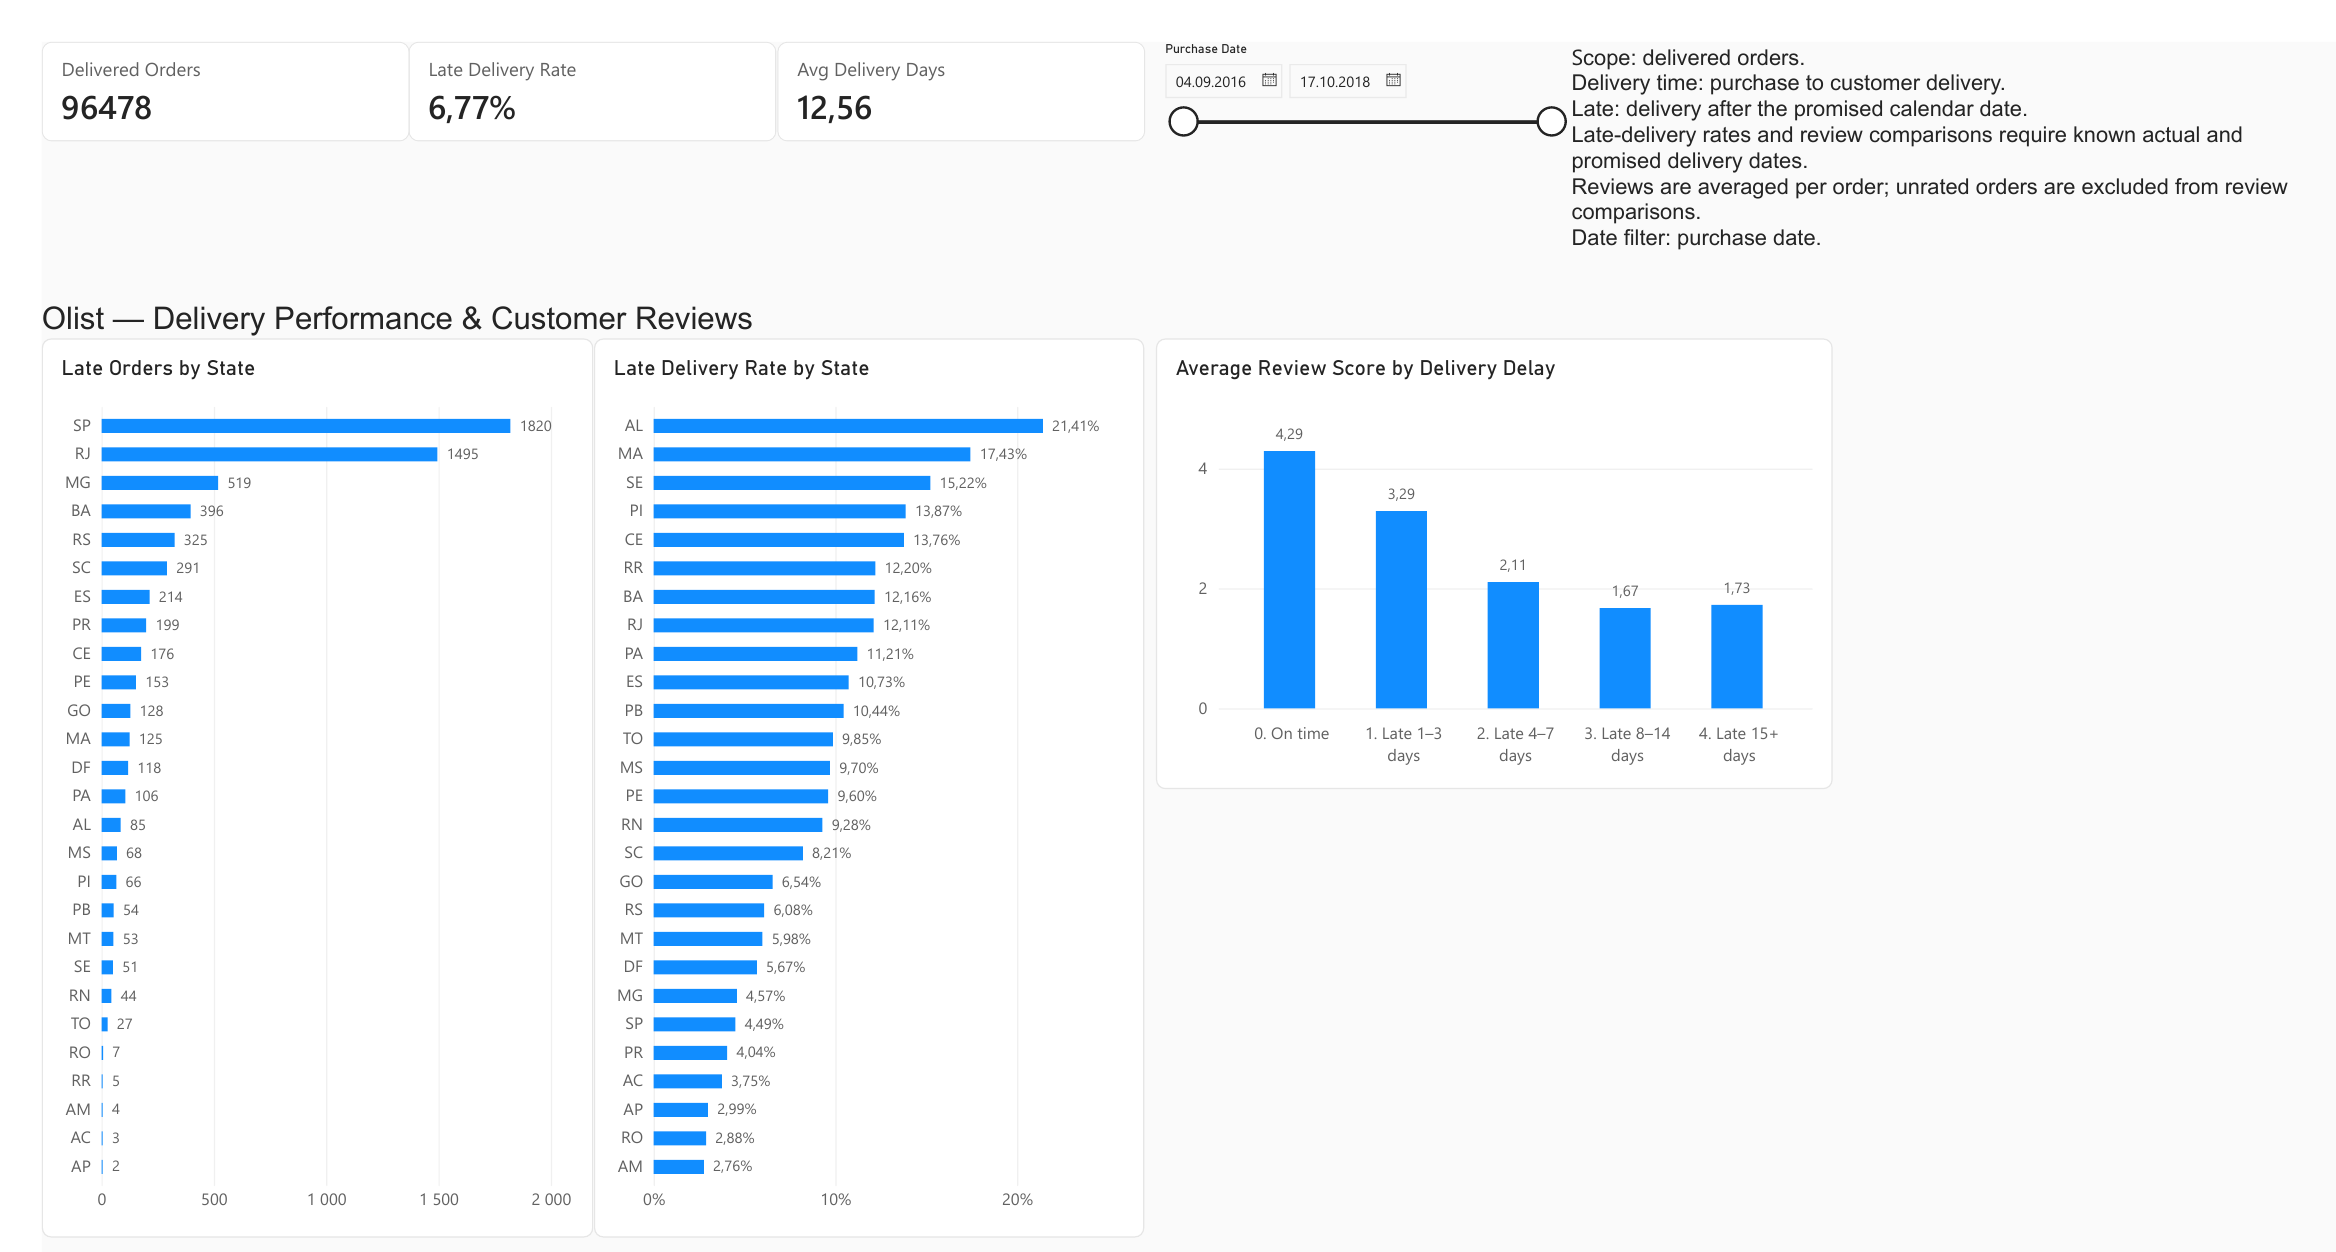

The page's visual inventory and layout, read from the dashboard file:
{"tool":"powerbi","page":{"name":"Страница 1","canvas":[1920,1080],"ordinal":0},"visuals":[{"type":"cardVisual","fields":{"Data":["public orders_enriched.Delivered Orders"]},"box":[0,0,314.3,85.7],"z":0},{"type":"cardVisual","fields":{"Data":["public orders_enriched.Late Delivery Rate"]},"box":[314,0,314.3,85.7],"z":2},{"type":"cardVisual","fields":{"Data":["public orders_enriched.Avg Delivery Days"]},"box":[628,0,314.3,85.7],"z":3},{"type":"clusteredBarChart","title":"Late Delivery Rate by State","fields":{"Category":["public orders_enriched.customer_state"],"Y":["public orders_enriched.Late Delivery Rate"]},"box":[472,254,470,767.5],"z":4},{"type":"clusteredBarChart","title":"Late Orders by State","fields":{"Category":["public orders_enriched.customer_state"],"Y":["public orders_enriched.Late Orders"]},"box":[0,254,471.2,767.5],"z":5},{"type":"clusteredColumnChart","title":"Average Review Score by Delivery Delay","fields":{"Category":["public orders_enriched.Delay Group"],"Y":["public orders_enriched.Avg Review Score"]},"box":[952,254,577.5,385],"z":6},{"type":"slicer","fields":{"Values":["public orders_enriched.order_purchase_timestamp"]},"box":[951.2,0,354,86],"z":7},{"type":"textbox","box":[1306,0,614,254],"z":8},{"type":"textbox","box":[0,221.7,671.7,31.7],"z":9}]}

Visuals, with their boxes on the page's 1920x1080 design canvas (x1, y1, x2, y2). These are canvas units, not pixel positions in the 2336x1252 screenshot, which may show the page scaled, cropped or inside an application window:
cardVisual - public orders_enriched.Delivered Orders: bbox=[0, 0, 314, 86]
cardVisual - public orders_enriched.Late Delivery Rate: bbox=[314, 0, 628, 86]
cardVisual - public orders_enriched.Avg Delivery Days: bbox=[628, 0, 942, 86]
"Late Delivery Rate by State" clusteredBarChart: bbox=[472, 254, 942, 1022]
"Late Orders by State" clusteredBarChart: bbox=[0, 254, 471, 1022]
"Average Review Score by Delivery Delay" clusteredColumnChart: bbox=[952, 254, 1530, 639]
slicer - public orders_enriched.order_purchase_timestamp: bbox=[951, 0, 1305, 86]
textbox: bbox=[1306, 0, 1920, 254]
textbox: bbox=[0, 222, 672, 253]
